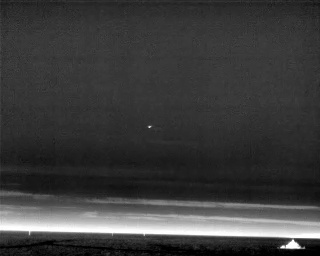BIRD: (146, 122, 154, 131)
